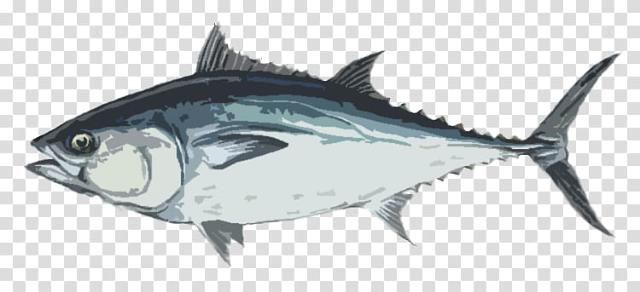Mulut: (22, 130, 66, 192)
Sirip Anal: (364, 183, 428, 251)
Sirip Dada: (200, 124, 292, 180)
Sirip Ekor: (537, 46, 625, 244)
Sirip Perut: (192, 208, 254, 270)
Sirip Punggung: (189, 16, 395, 104)
